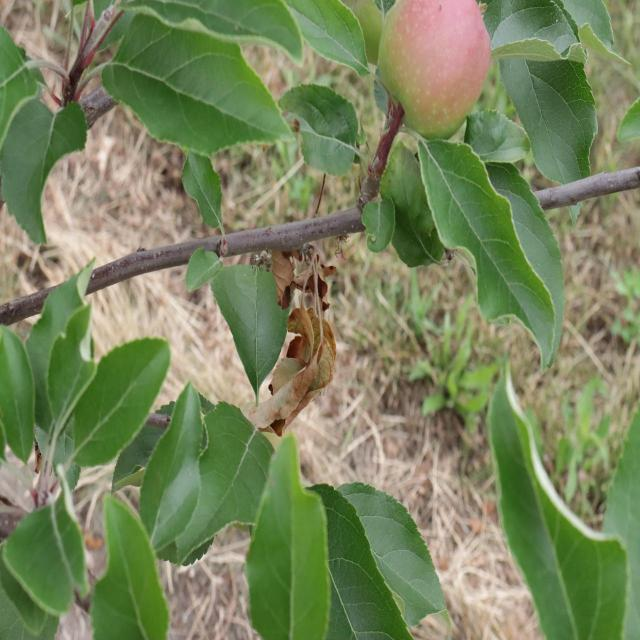-FireBlight-: (270, 246, 342, 432)
